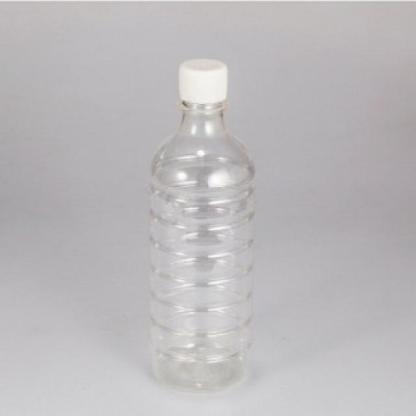Plastic Bottle: (149, 58, 255, 392)
